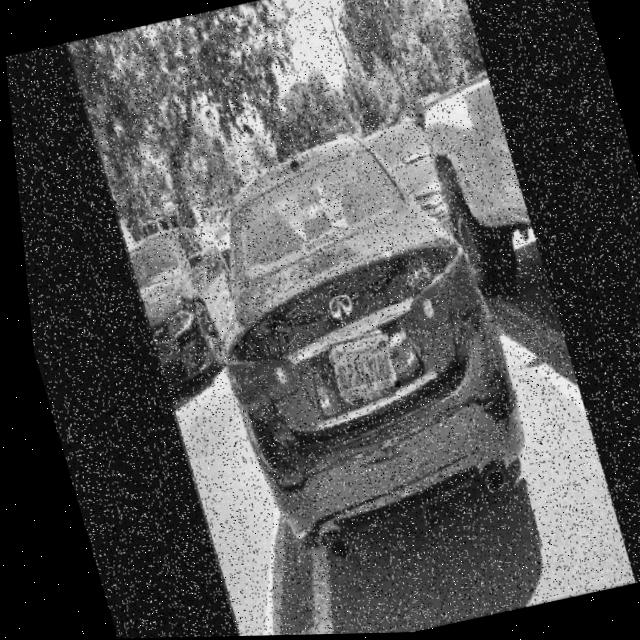LicensePlate: (322, 334, 387, 401)
